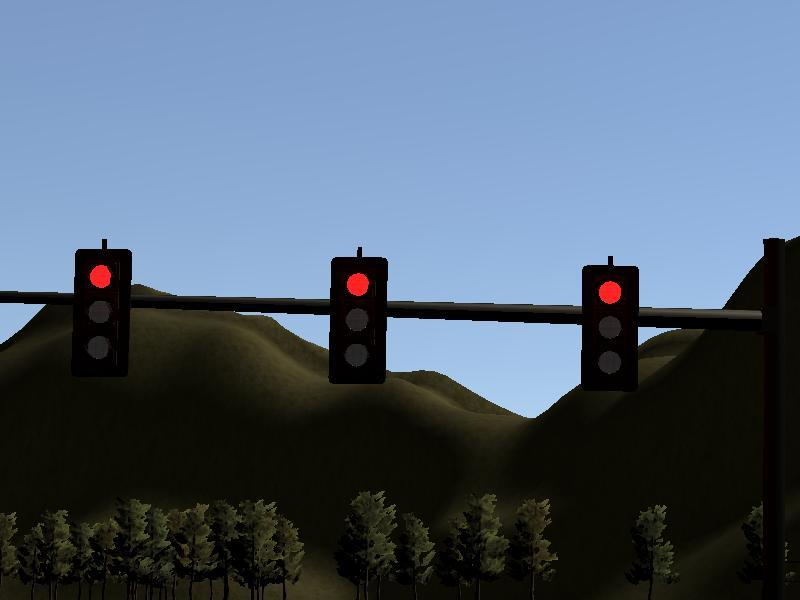Red: (71, 249, 132, 379), (580, 265, 639, 394), (328, 257, 386, 384)
